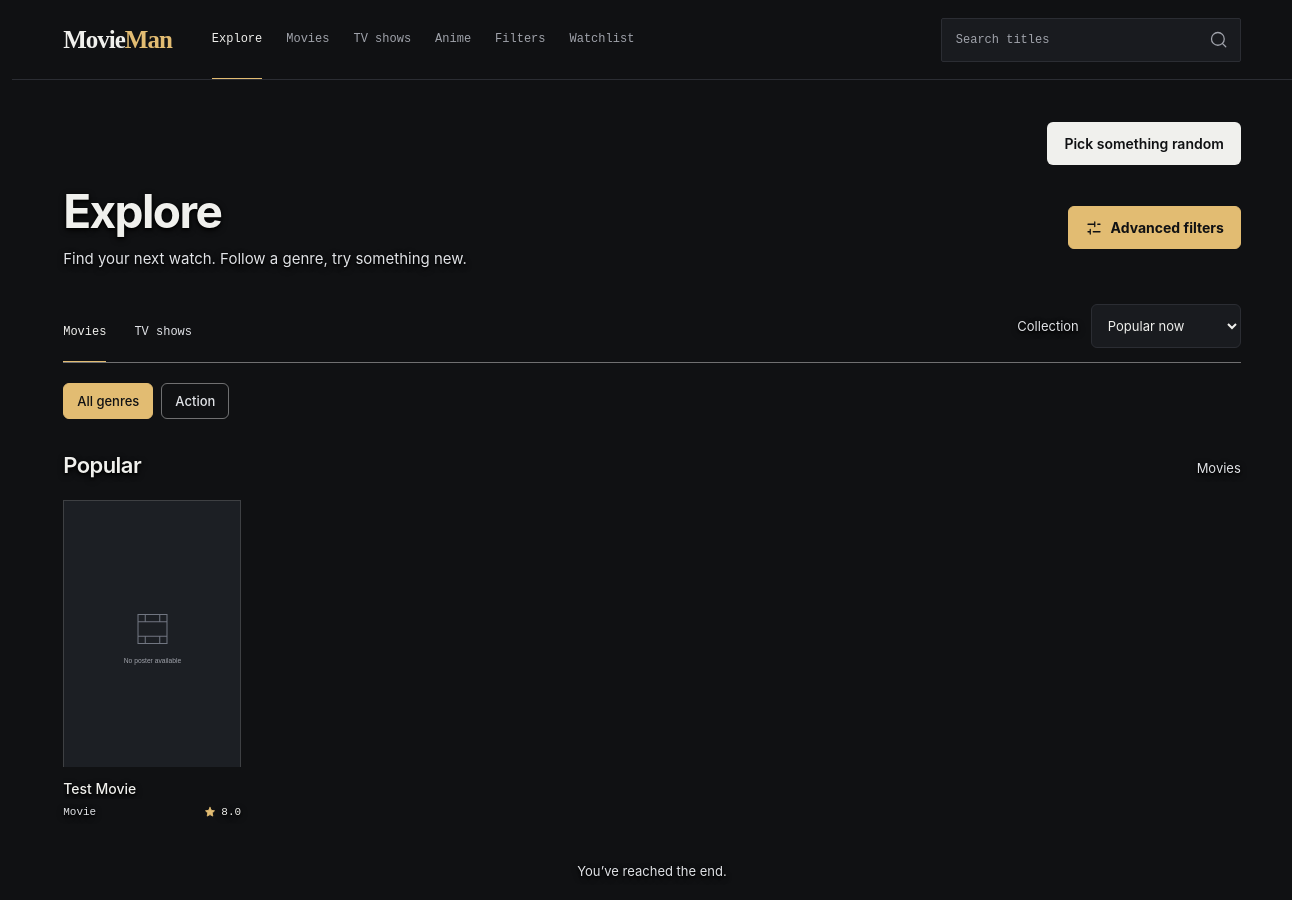
Explore discovers genres, shares filters in the URL, and clears movie genres when switching to TV
Click the button "Action".
click(195, 401)  # box [161,383,229,419]
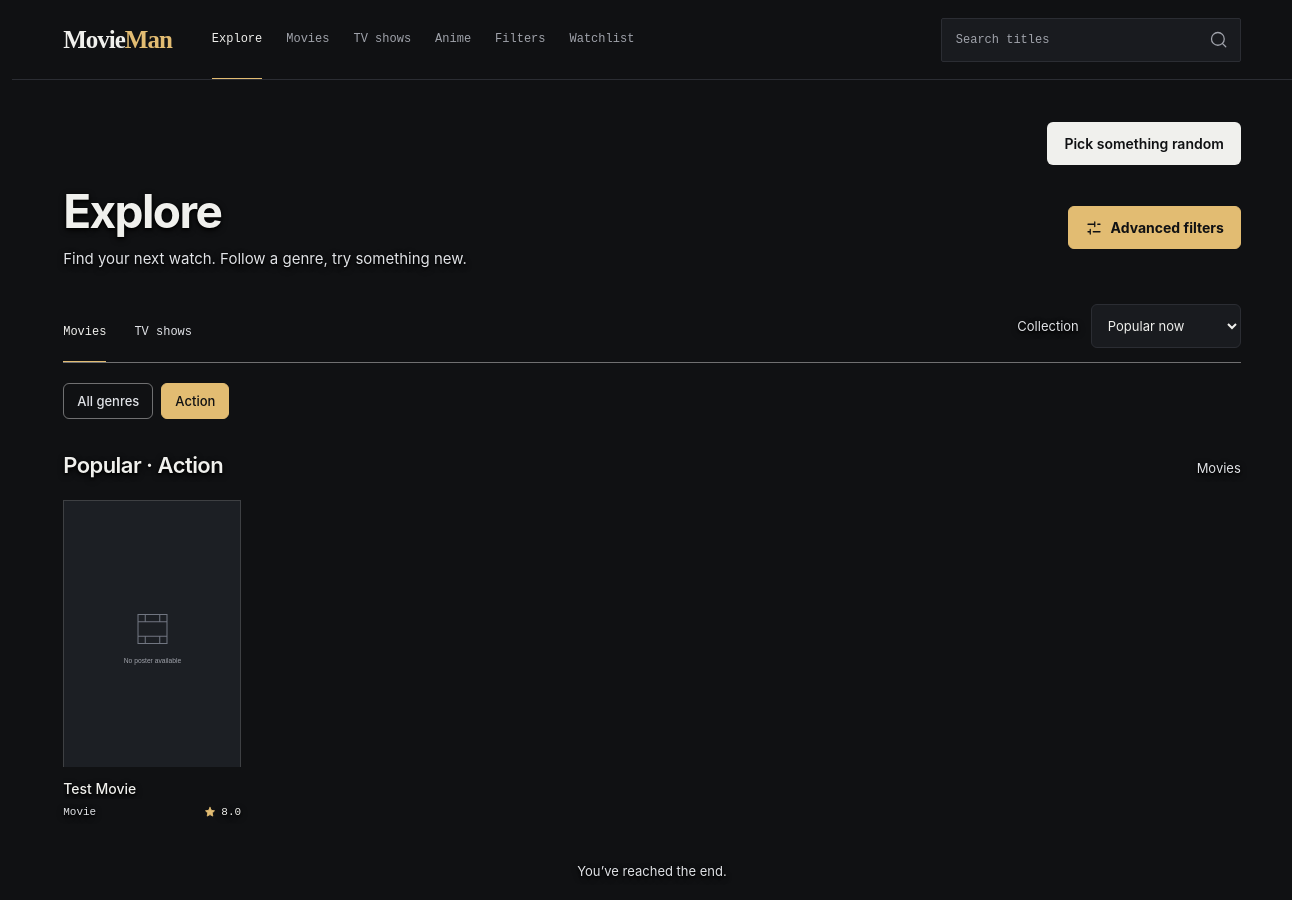
Expected: the heading "Popular · Action" is shown, [63,451,223,480]
Select "Top rated" in the dropdown labelled "Collection" at point(1166, 326), box [1091,304,1241,348]
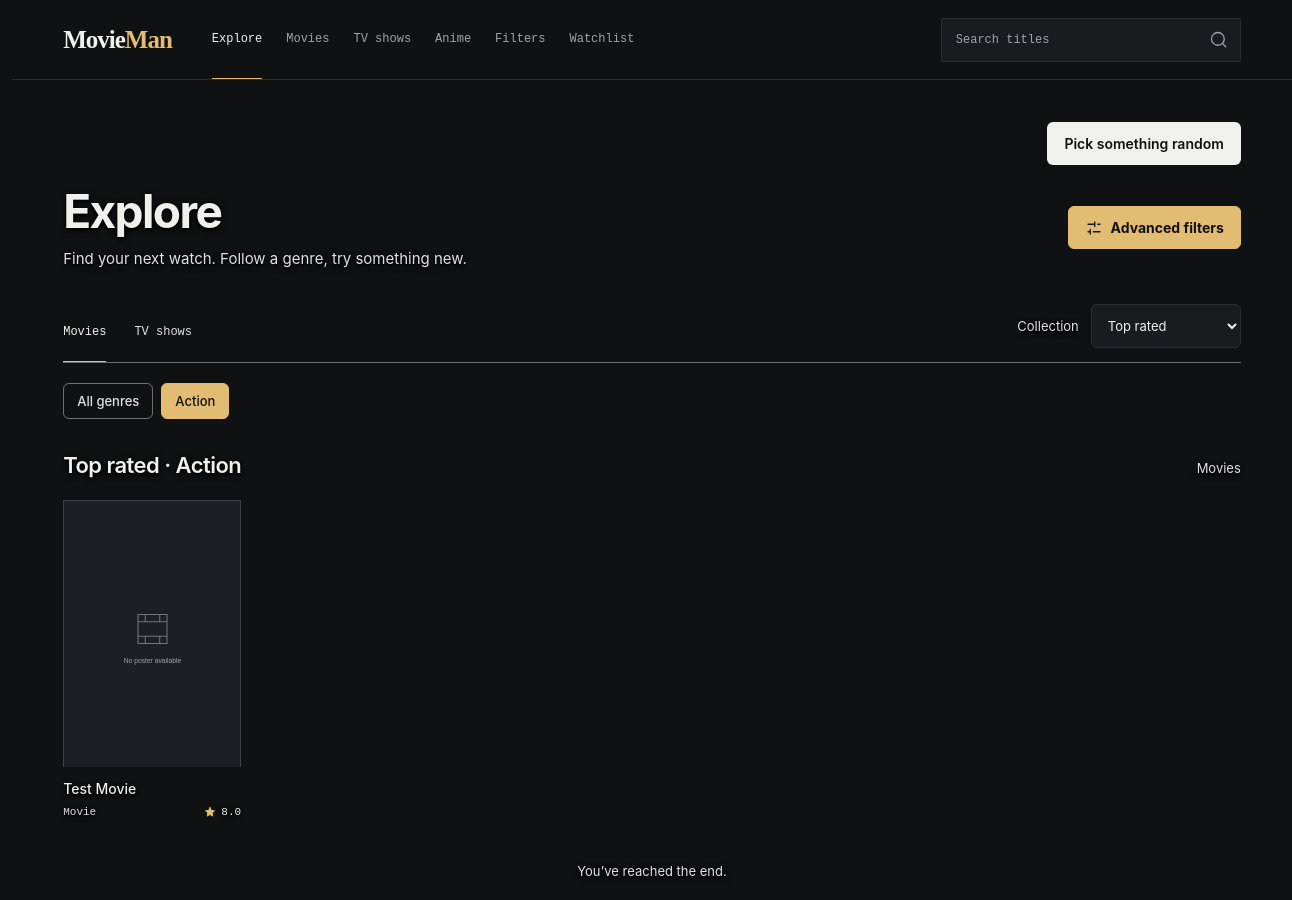
Click the button "TV shows".
click(163, 340)  # box [134,318,192,362]
(page scrolled)
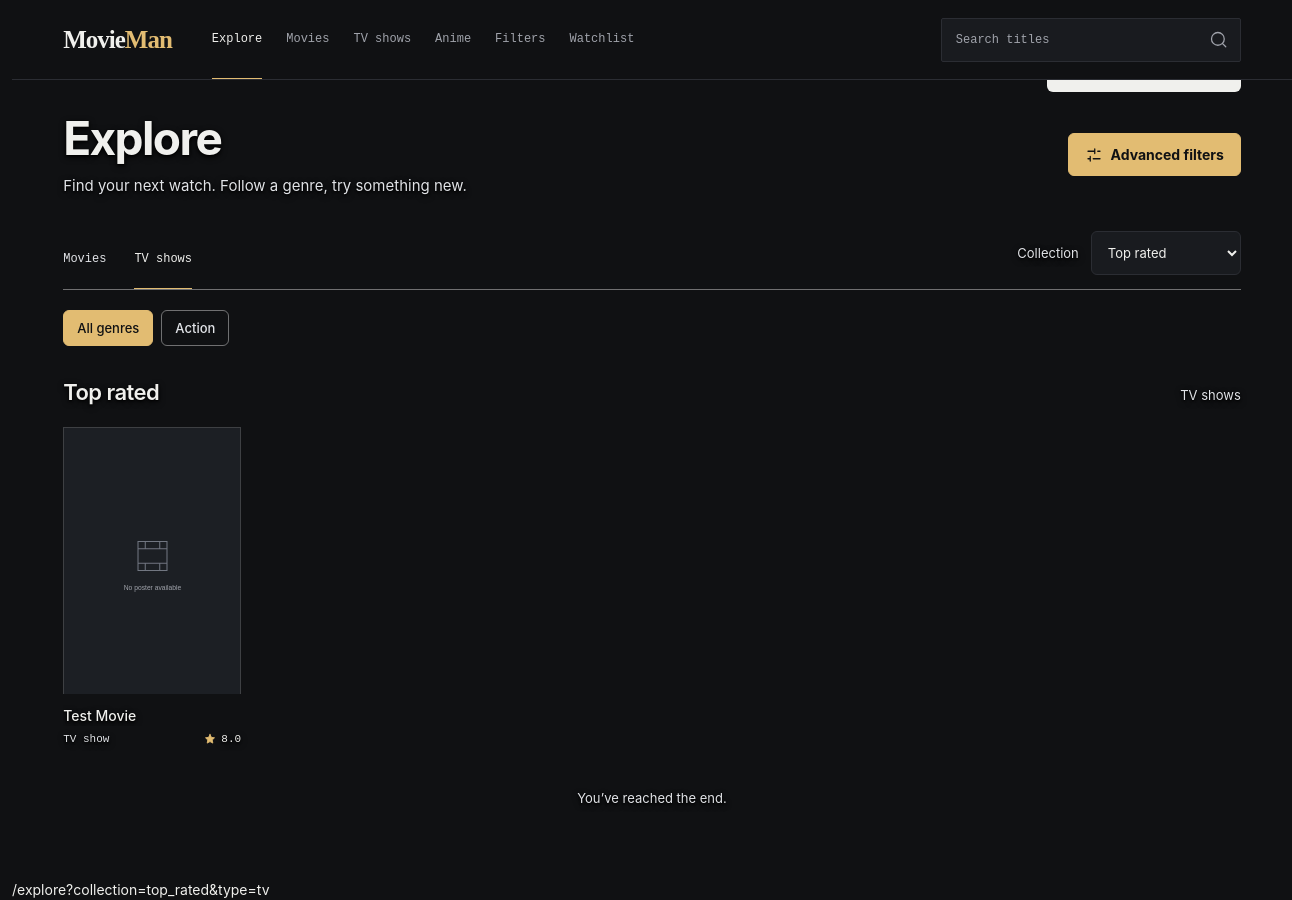
Expected: the text with test id "location" shows "type=tv", [66,881,270,898]
Expected: the text with test id "location" no longer shows "genre=", [12,881,270,898]
